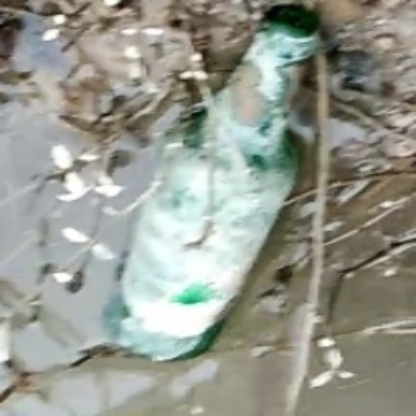bottle: (105, 1, 321, 356)
